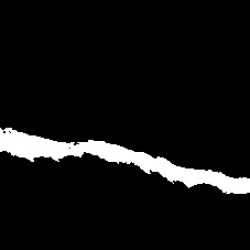crack: (0, 128, 249, 195)
